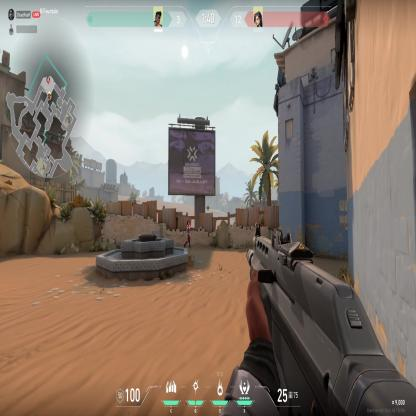enemy: (184, 217, 192, 249)
